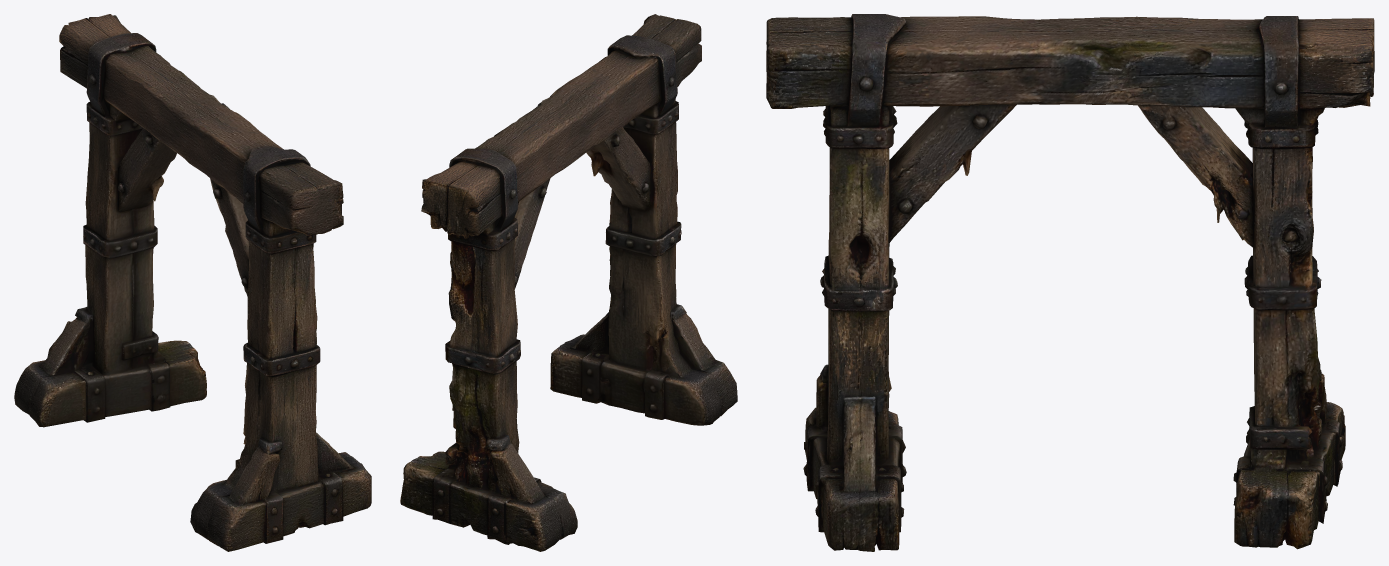
File: wooden-support-brace.glb
3 views of the same model, side by side, from view 1: azimuth 30°, elevation 25°; view 2: azimuth 150°, elevation 25°; view 3: azimuth 270°, elevation 25° (orthographic). The views are drawn at different scales.
Parts seen in each view (by area): view 1: tripo_node_02645ace-dc50-4175-a230-d8017a02f9df; view 2: tripo_node_02645ace-dc50-4175-a230-d8017a02f9df; view 3: tripo_node_02645ace-dc50-4175-a230-d8017a02f9df.
Part boxes in pixels (x1,y1,x2,y2): tripo_node_02645ace-dc50-4175-a230-d8017a02f9df: (14, 14, 371, 551); tripo_node_02645ace-dc50-4175-a230-d8017a02f9df: (400, 14, 737, 551); tripo_node_02645ace-dc50-4175-a230-d8017a02f9df: (766, 14, 1374, 551).
Bounding box in the file's own units: 0.42 × 0.8681 × 1.
Materials: 1 (1 with a texture image).
